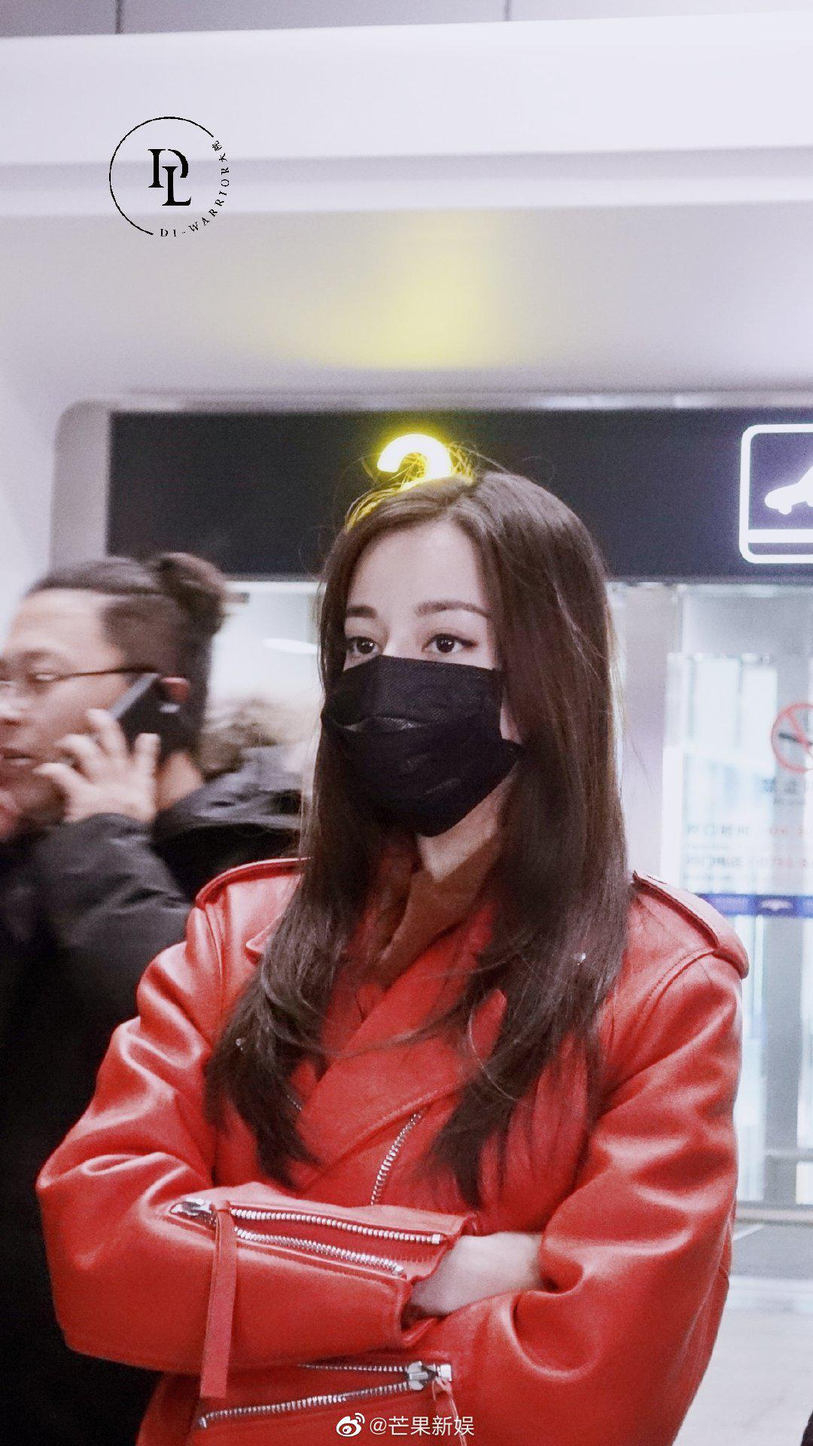NONE: (1, 624, 101, 822)
OK: (333, 563, 524, 841)
